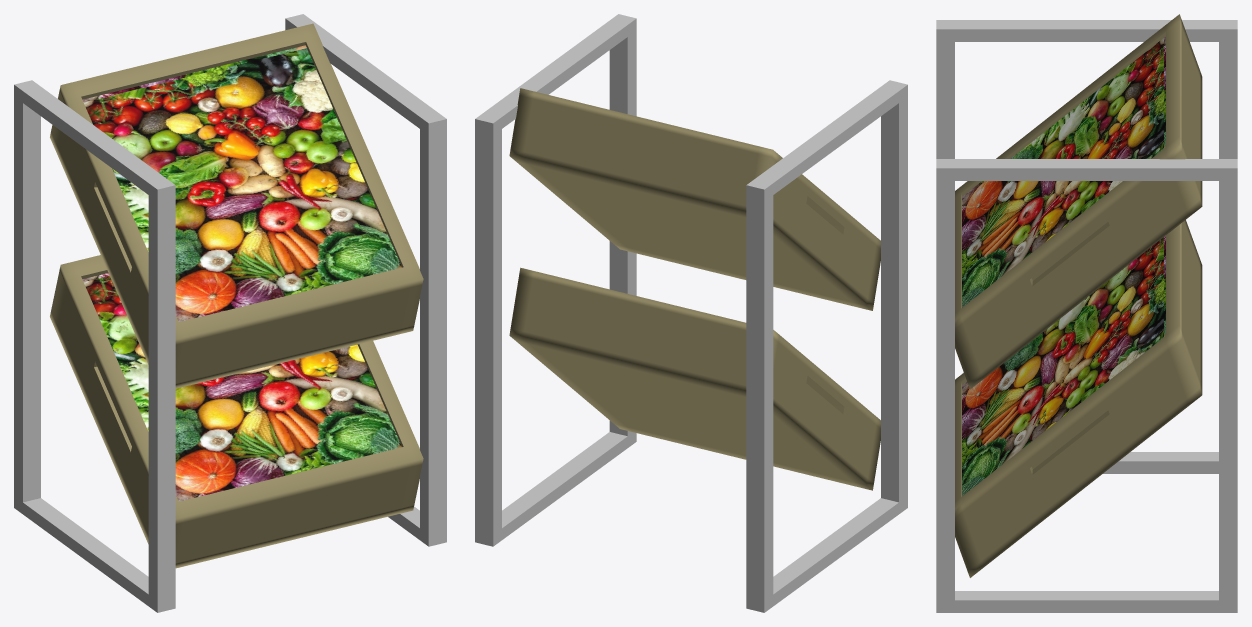
The model's file is fruitbasket.fbx.
3 renders of one model, left to right at view 1: azimuth 30°, elevation 25°; view 2: azimuth 150°, elevation 25°; view 3: azimuth 270°, elevation 25°, orthographic. The views are drawn at different scales.
Parts seen in each view (by area): view 1: basket, basket3, shelfholder, shelfholder1; view 2: basket, basket3, shelfholder, shelfholder1; view 3: basket3, basket, shelfholder1, shelfholder.
Part boxes in pixels (bbox=[...]): basket: bbox=[50, 23, 423, 388]; basket3: bbox=[50, 255, 423, 568]; shelfholder: bbox=[14, 80, 175, 612]; shelfholder1: bbox=[285, 14, 446, 546]; basket: bbox=[509, 88, 880, 310]; basket3: bbox=[509, 267, 880, 490]; shelfholder: bbox=[746, 80, 907, 612]; shelfholder1: bbox=[475, 14, 636, 546]; basket3: bbox=[955, 220, 1202, 577]; basket: bbox=[955, 14, 1202, 389]; shelfholder1: bbox=[936, 159, 1237, 612]; shelfholder: bbox=[936, 20, 1237, 473].
Size of the model in its own units: 100 by 145 by 86.
